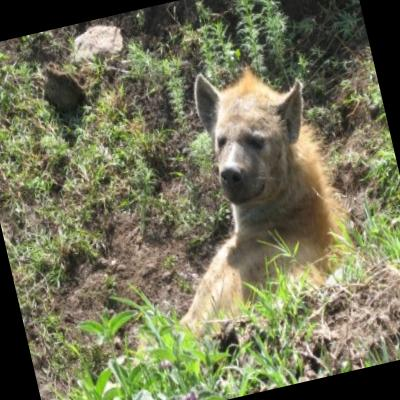hyenas: (113, 50, 389, 374)
